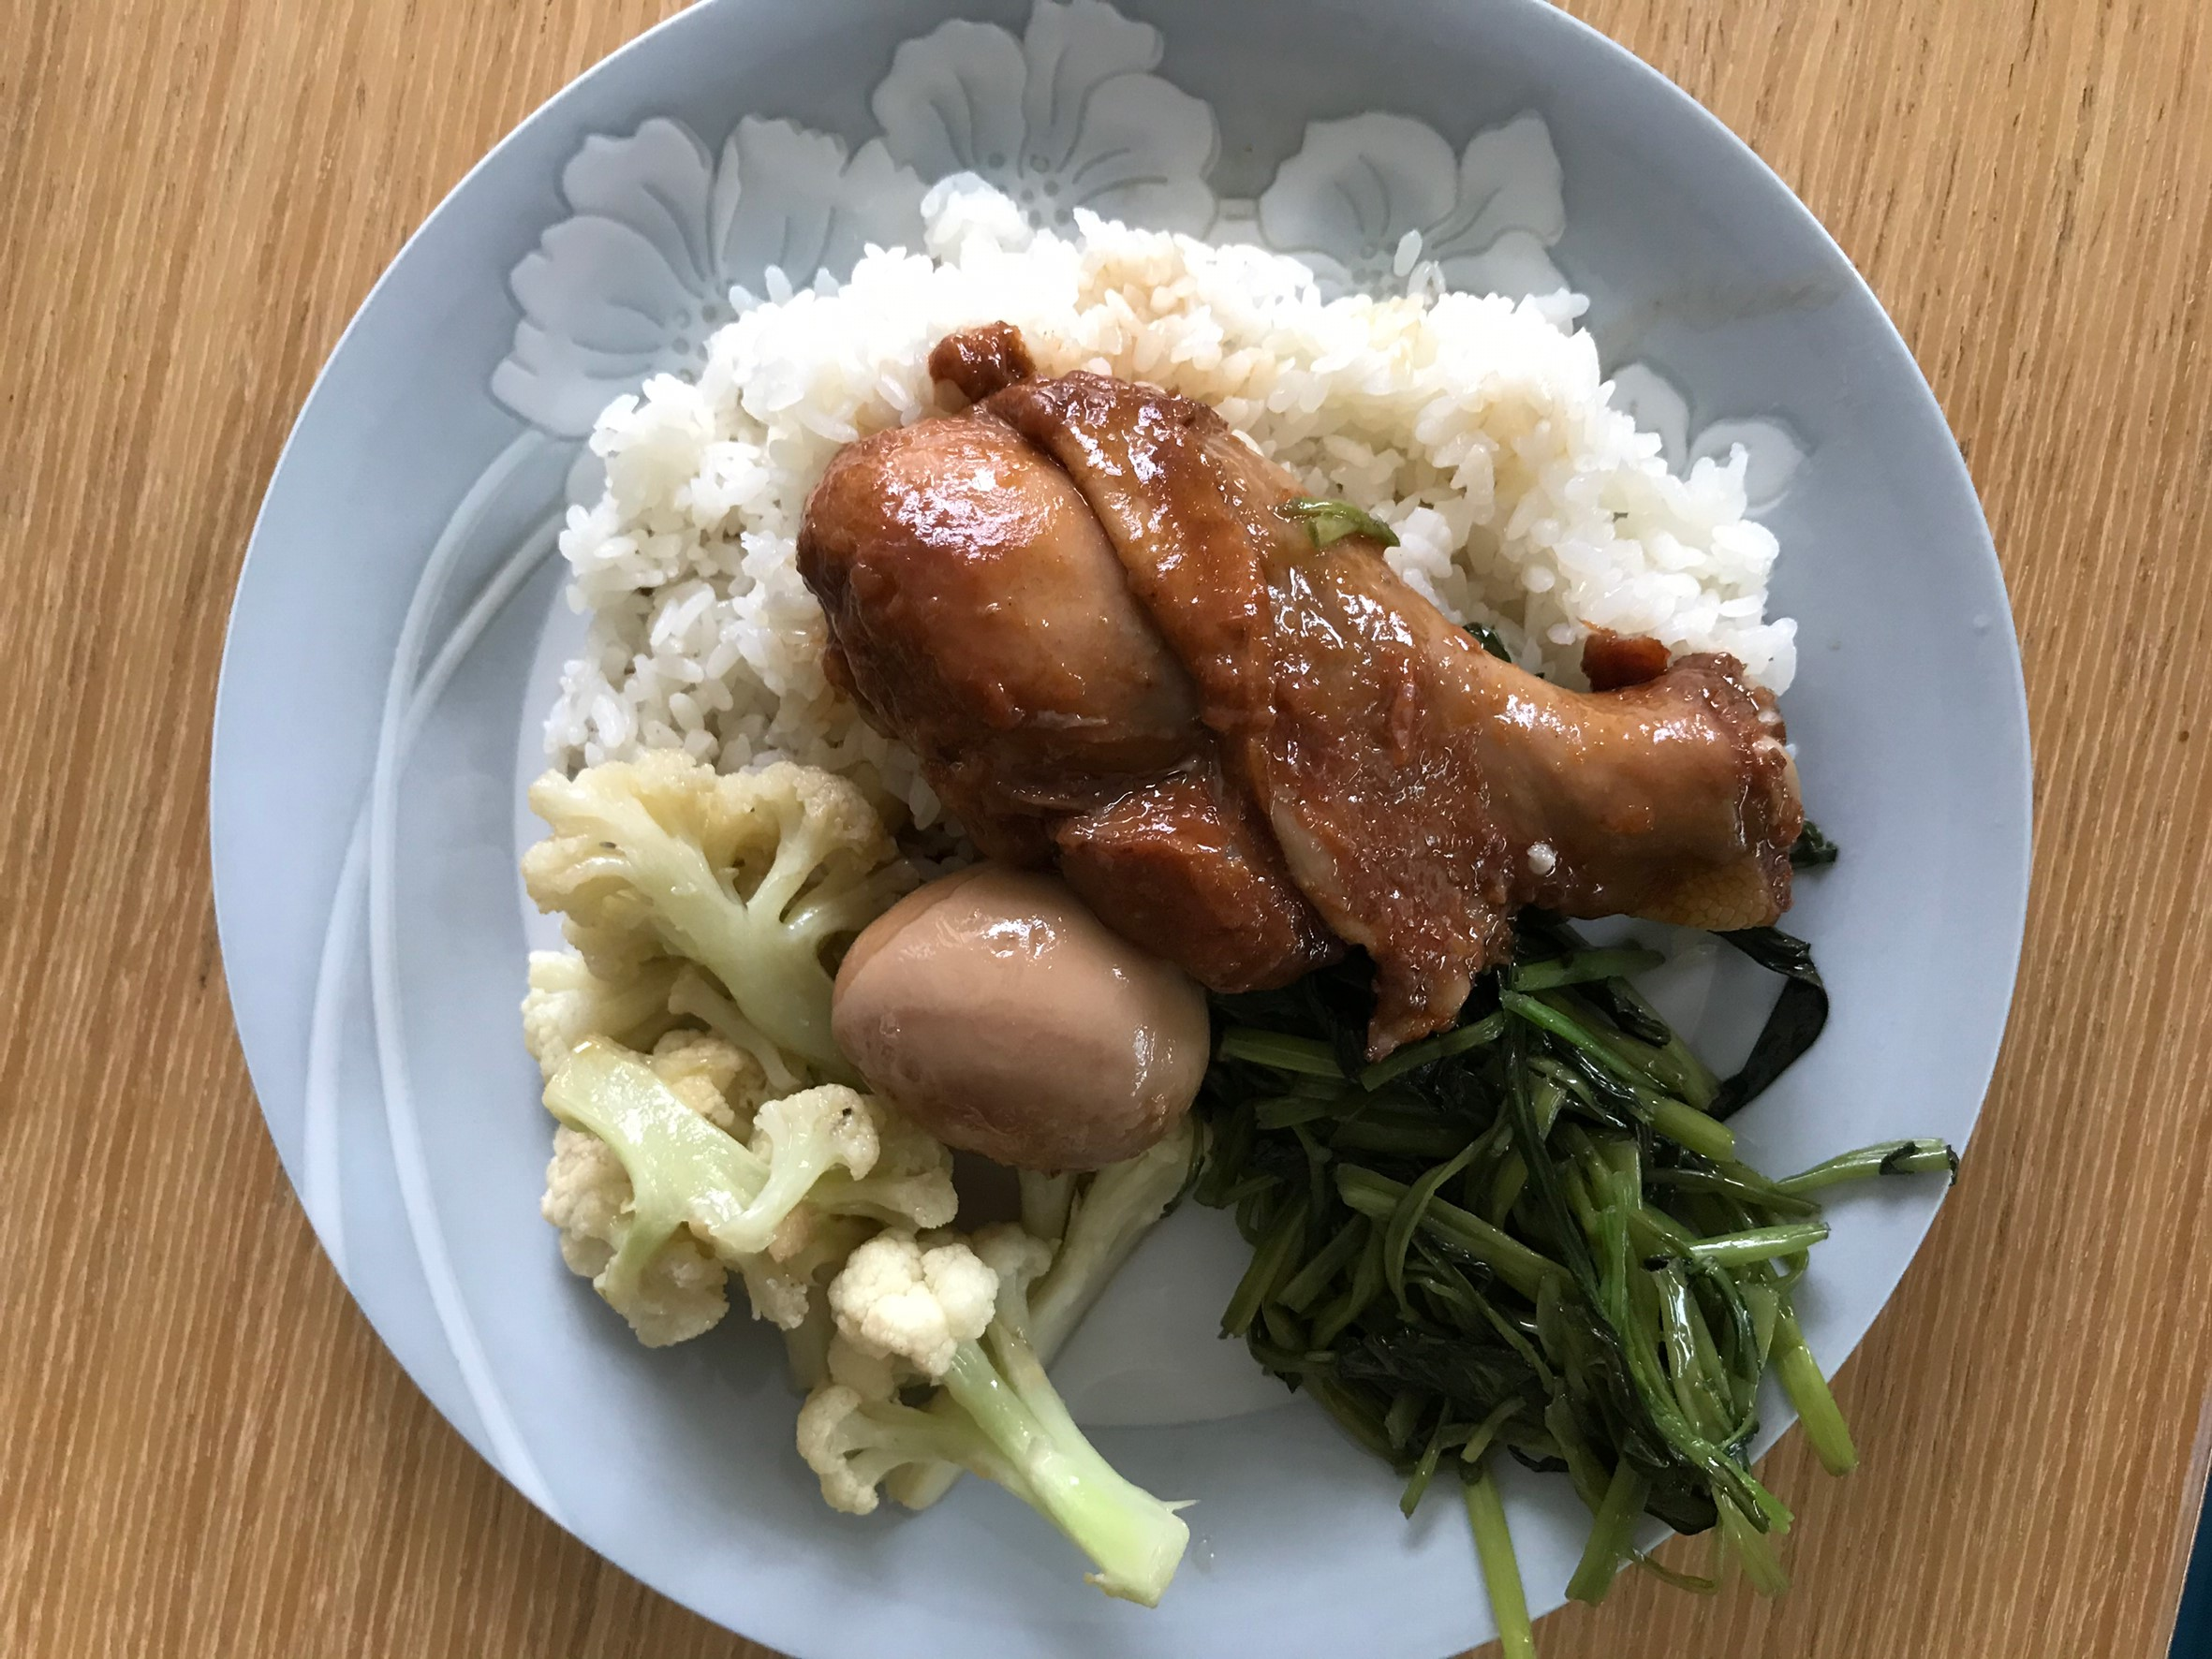rice: (1265, 260, 1778, 648), (547, 279, 809, 767)
water_spinach: (1164, 901, 1951, 1607)
